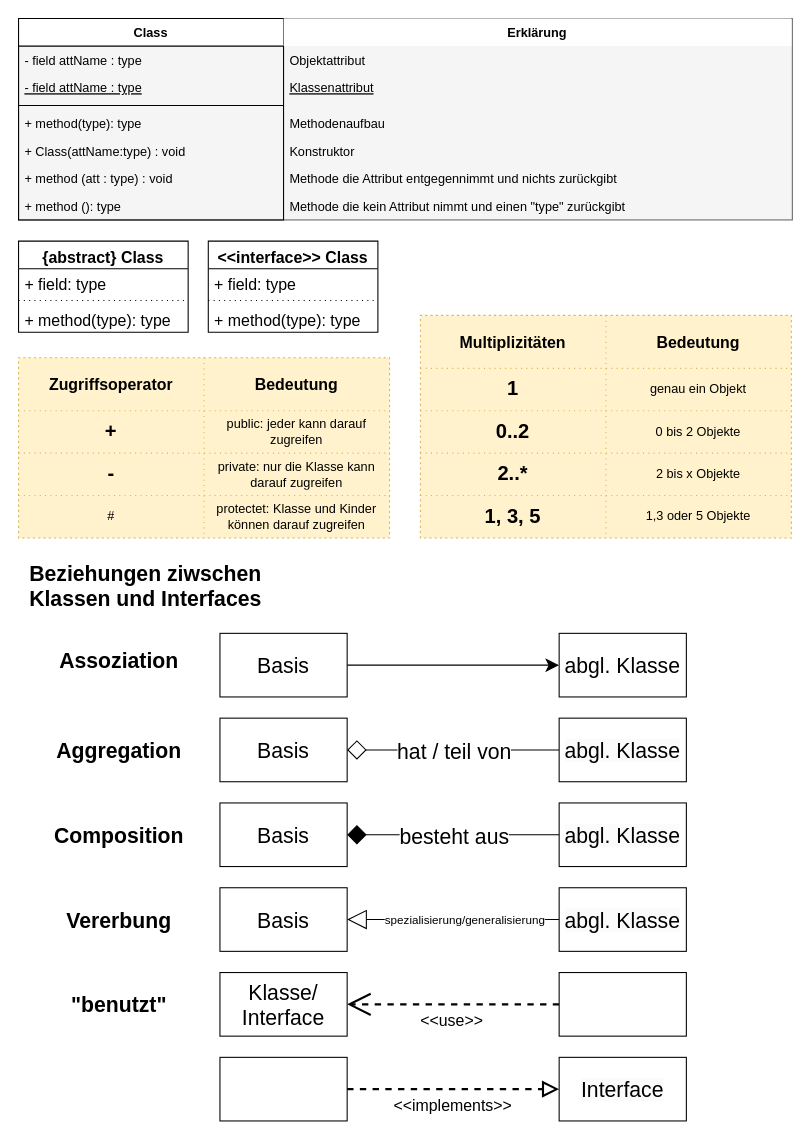
This 811x1139 diagram has some shape labels left out. The centre of each missing label's shape, as x and y in pixels:
Drucker: the point at 622,1003
Klasse: the point at 283,1088
